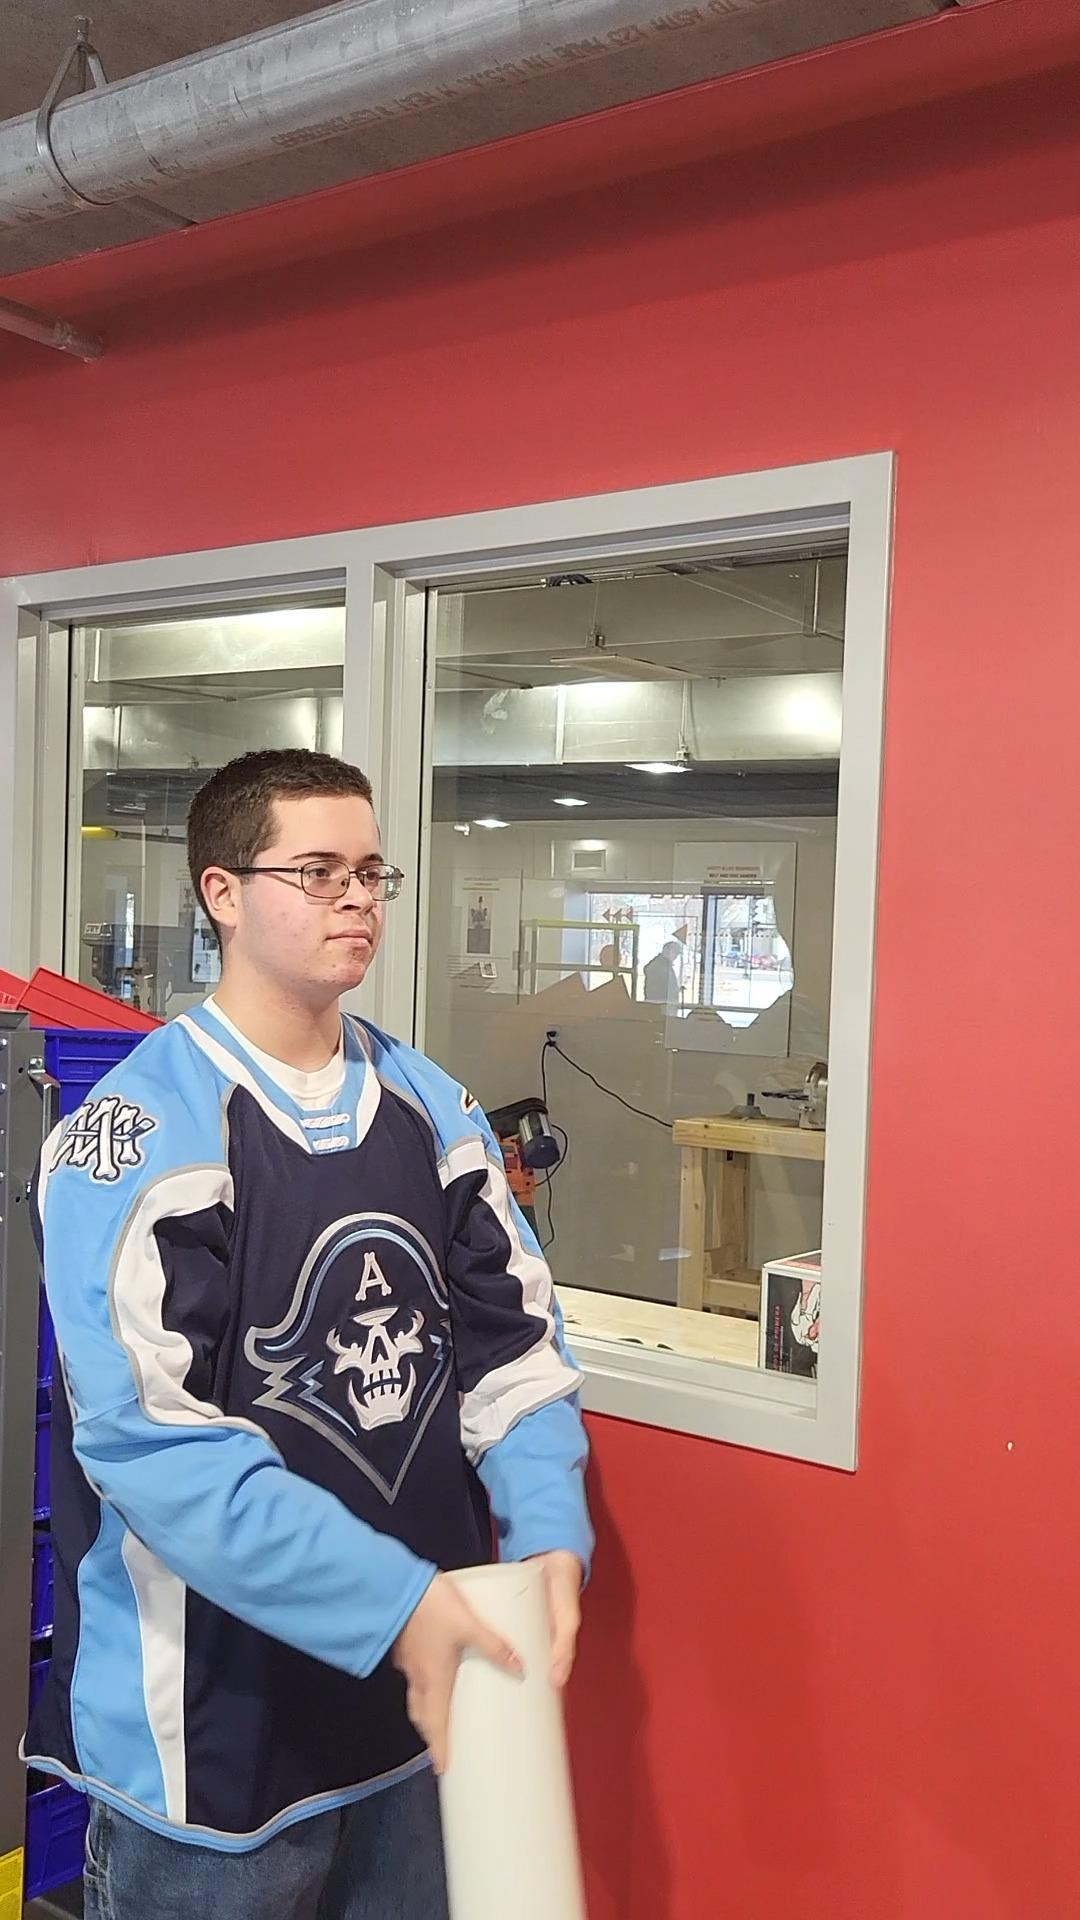coral: (400, 1556, 620, 1920)
